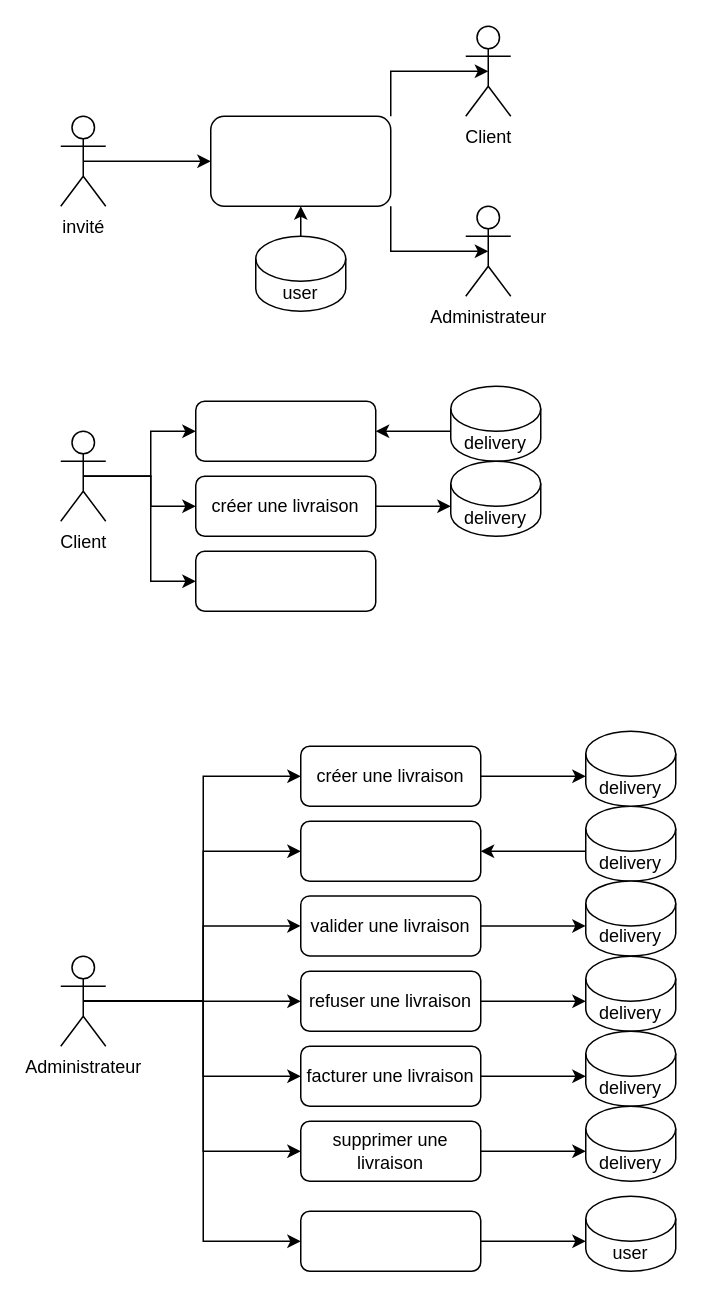
Some shapes in this 702 by 1298 pixel diagram are drawn without their labels. The centre of each missing label's shape, as x and y in pixels:
"consulter les livraisons" goes at pixel 390 850.
"consulter ses livraisons" goes at pixel 285 430.
"créer un compte client" goes at pixel 390 1240.
"se connecter" goes at pixel 300 160.
"se déconnecter" goes at pixel 285 580.
